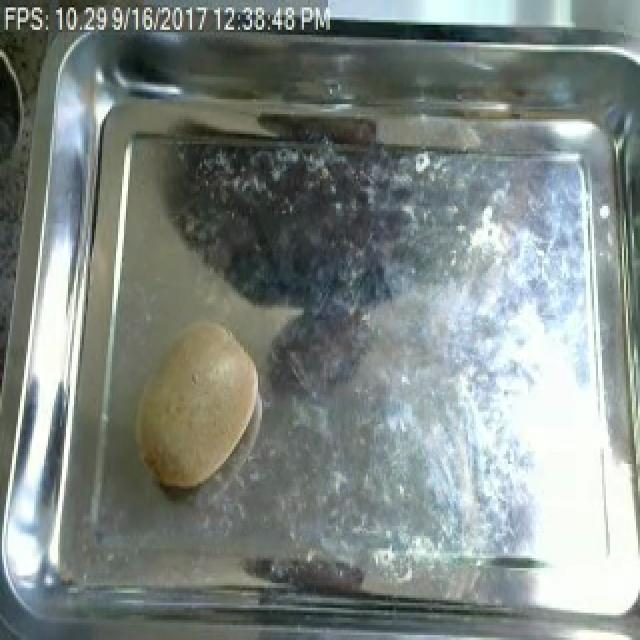Fruit: (124, 308, 270, 501)
